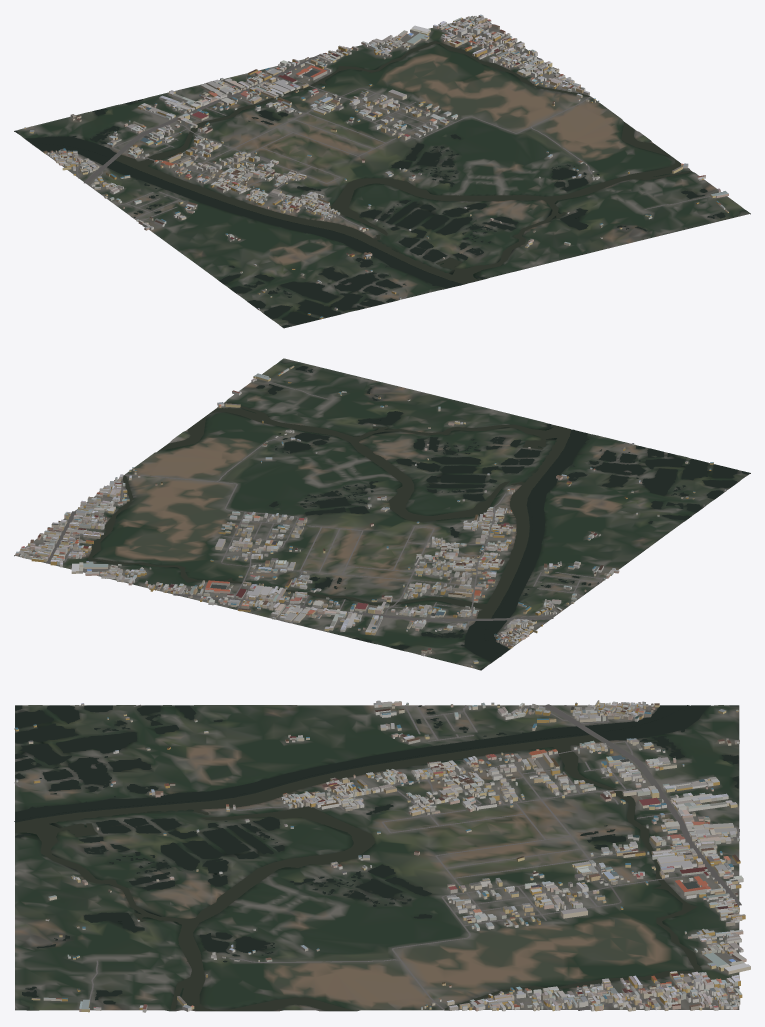
3 views of the same model, one above another, from view 1: azimuth 30°, elevation 25°; view 2: azimuth 150°, elevation 25°; view 3: azimuth 270°, elevation 25° (orthographic). The views are drawn at different scales.
Visible parts, largest first — view 1: ground, water, buildings, roads; view 2: ground, water, buildings, roads; view 3: ground, water, buildings, roads.
Boxes of the visible parts, left/top/right/bottom form: ground: left=14, top=16, right=750, bottom=328; water: left=15, top=41, right=744, bottom=327; buildings: left=24, top=14, right=728, bottom=319; roads: left=47, top=20, right=710, bottom=299; ground: left=14, top=358, right=750, bottom=670; water: left=88, top=362, right=749, bottom=669; buildings: left=15, top=365, right=726, bottom=667; roads: left=41, top=378, right=704, bottom=645; ground: left=15, top=705, right=739, bottom=1011; water: left=14, top=705, right=738, bottom=1010; buildings: left=14, top=700, right=750, bottom=1012; roads: left=14, top=704, right=741, bottom=1010.
Bounding box in the file's own units: 1421 × 20.95 × 1425.
